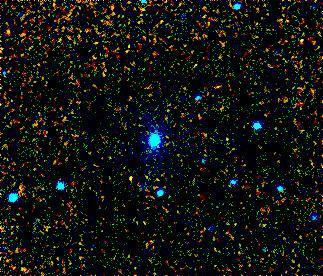star: (113, 169, 143, 199)
